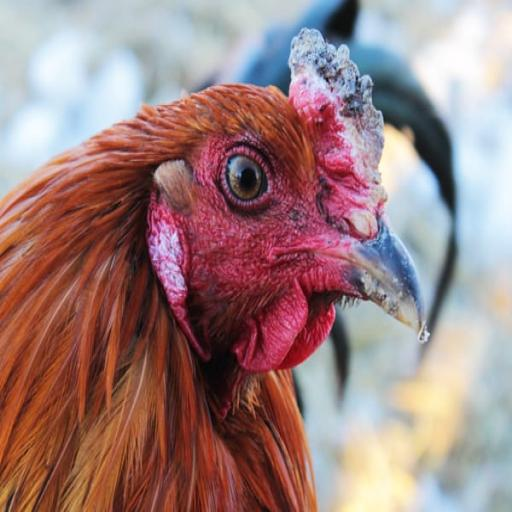disease: (284, 13, 394, 216), (323, 243, 409, 336)
